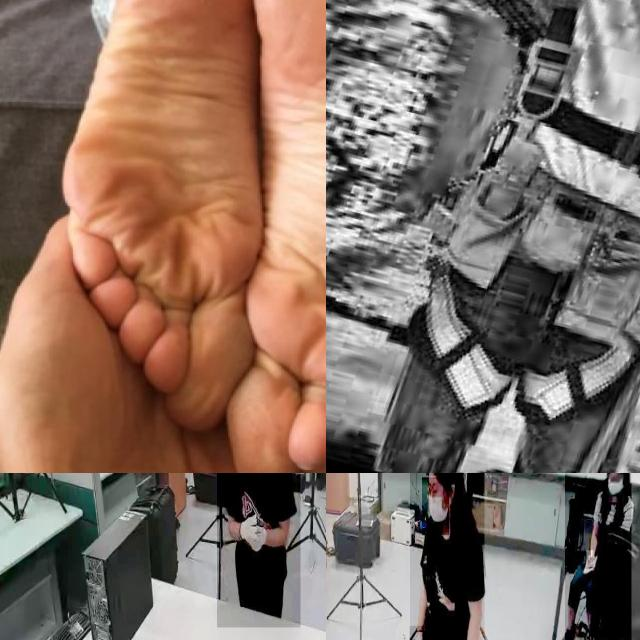Barefoots: (60, 0, 268, 444), (210, 0, 326, 473)
Harness: (514, 0, 640, 166)
face_mask: (217, 473, 301, 628), (422, 477, 449, 535), (608, 473, 623, 502)
hand_glove: (238, 505, 266, 561), (409, 625, 424, 640)
hand_noglove: (587, 550, 595, 568)
person: (410, 473, 485, 640), (565, 473, 632, 640)
